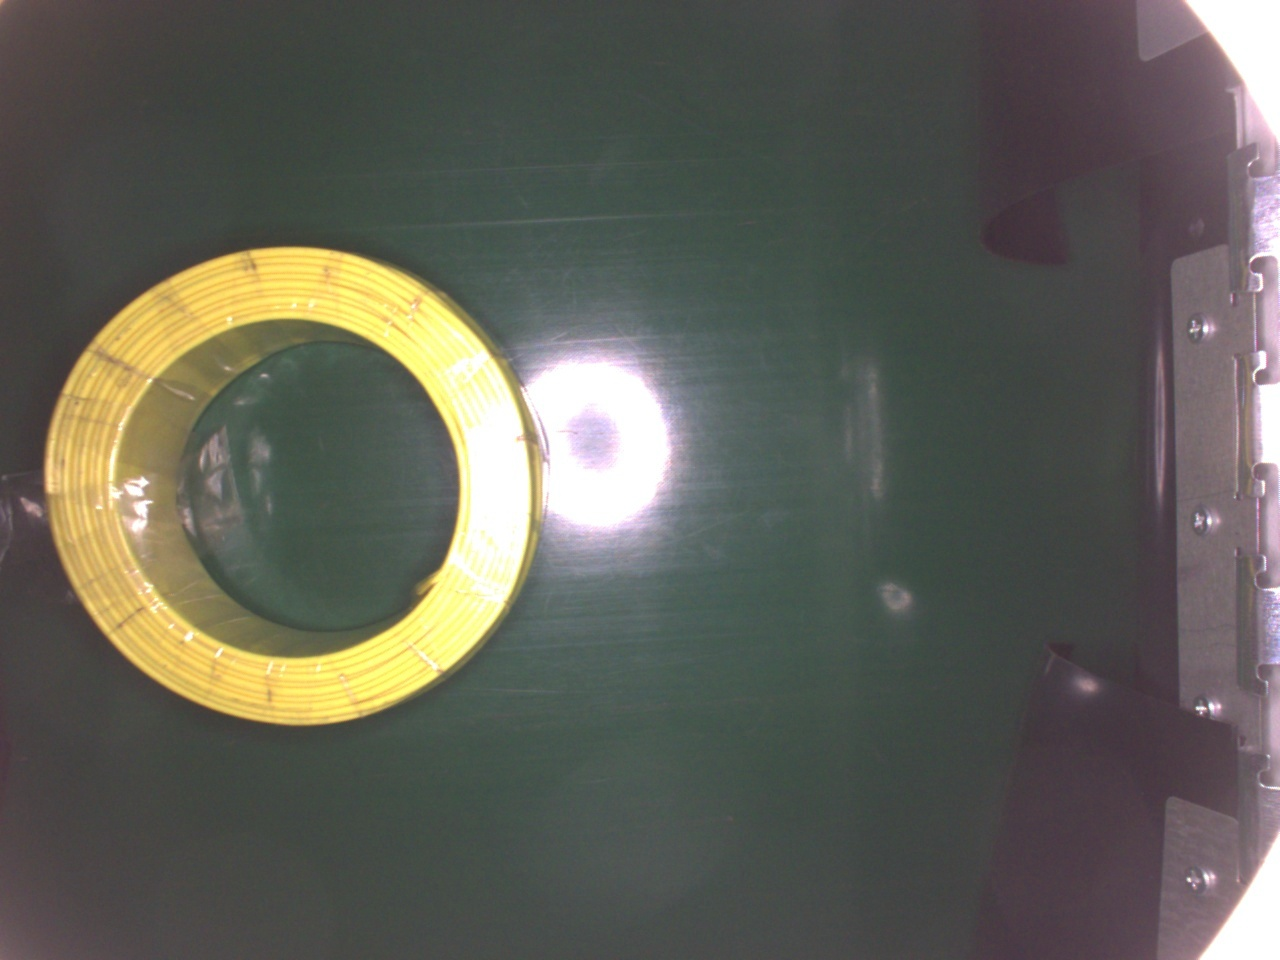yellow: (41, 243, 547, 729)
